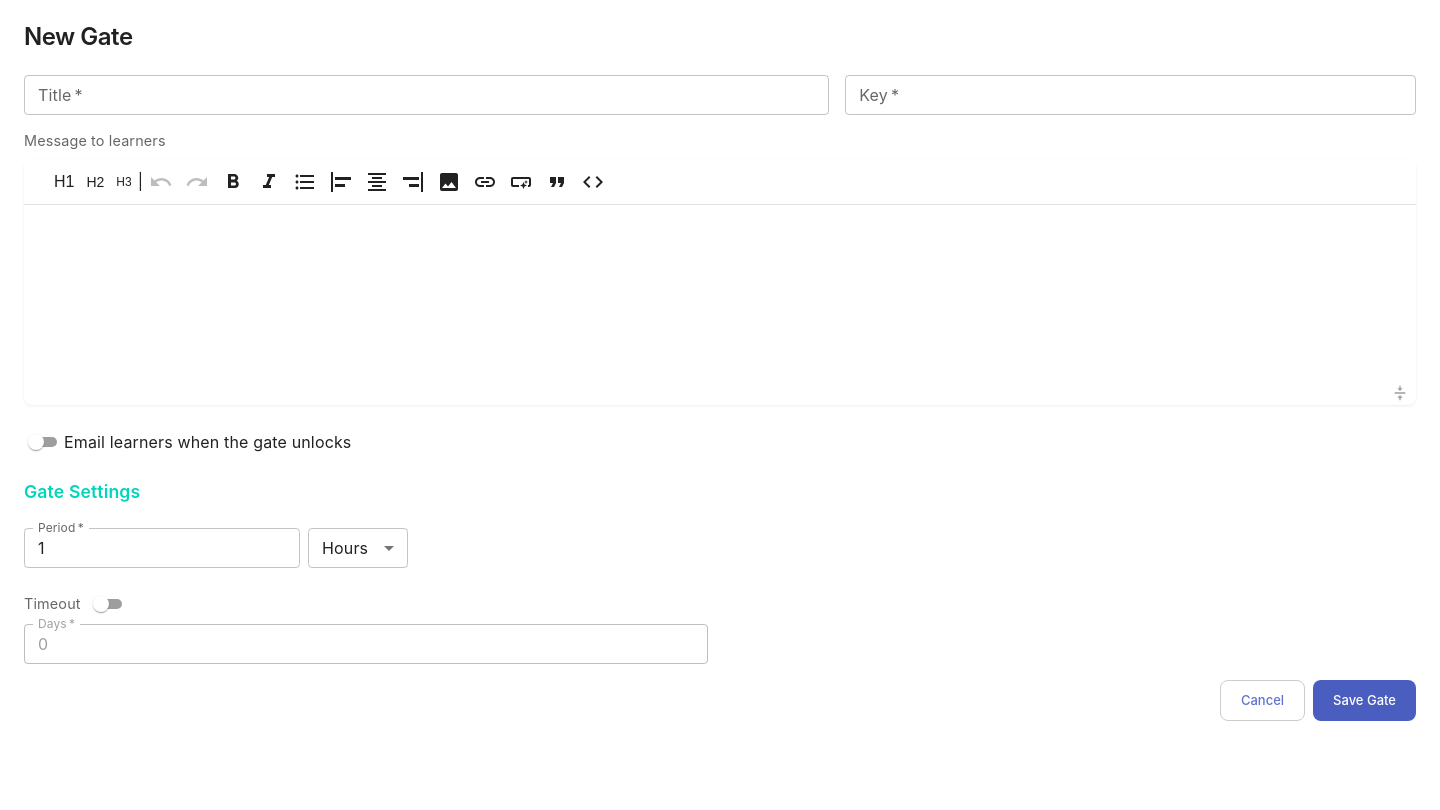
Scenario: GateForm › refuses a key that is not a slug
In the field labelled "Title *": (427, 95) [24, 75, 829, 115], type "Payment"
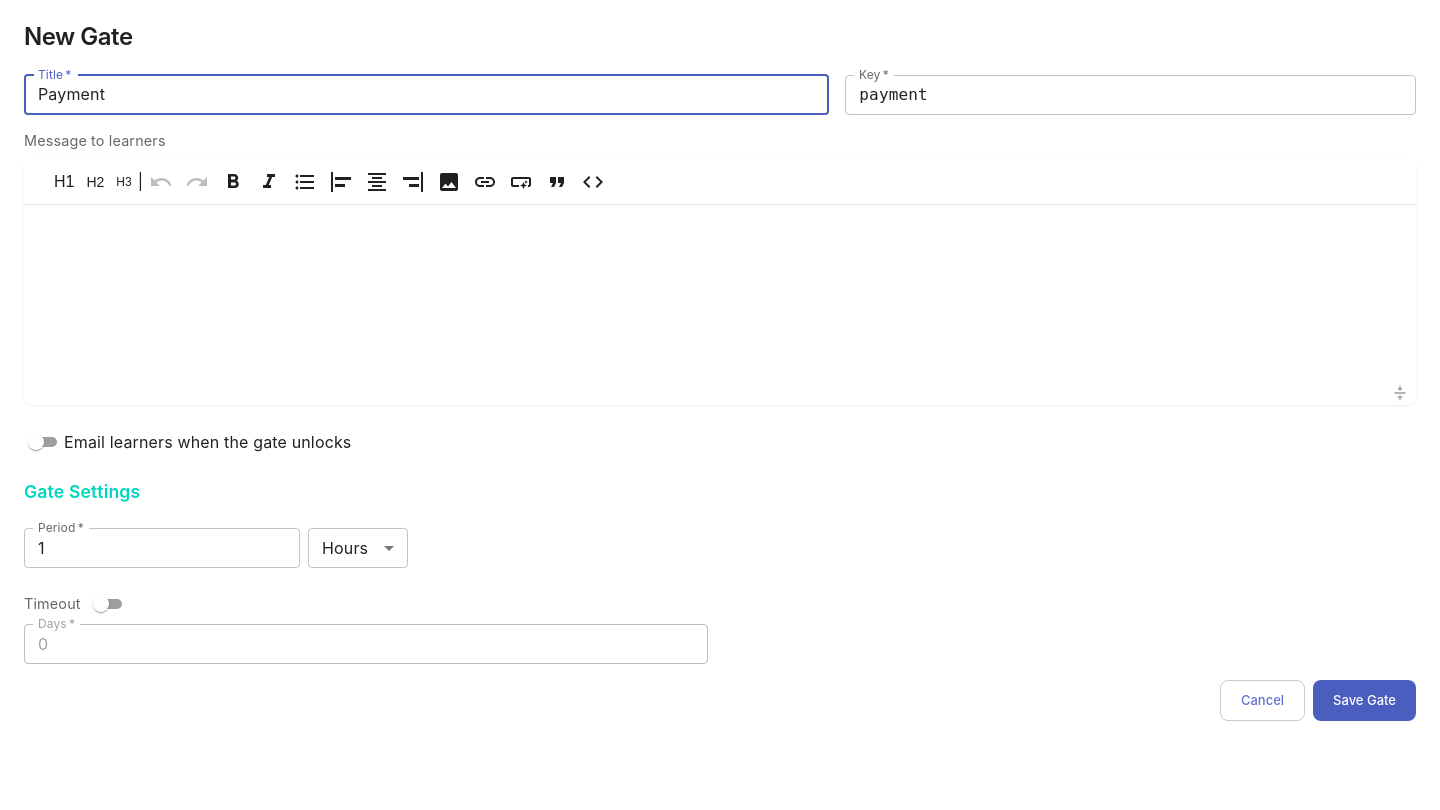
Replace the text in the field labelled "Key *" with "has space": (1131, 95) [845, 75, 1416, 115]
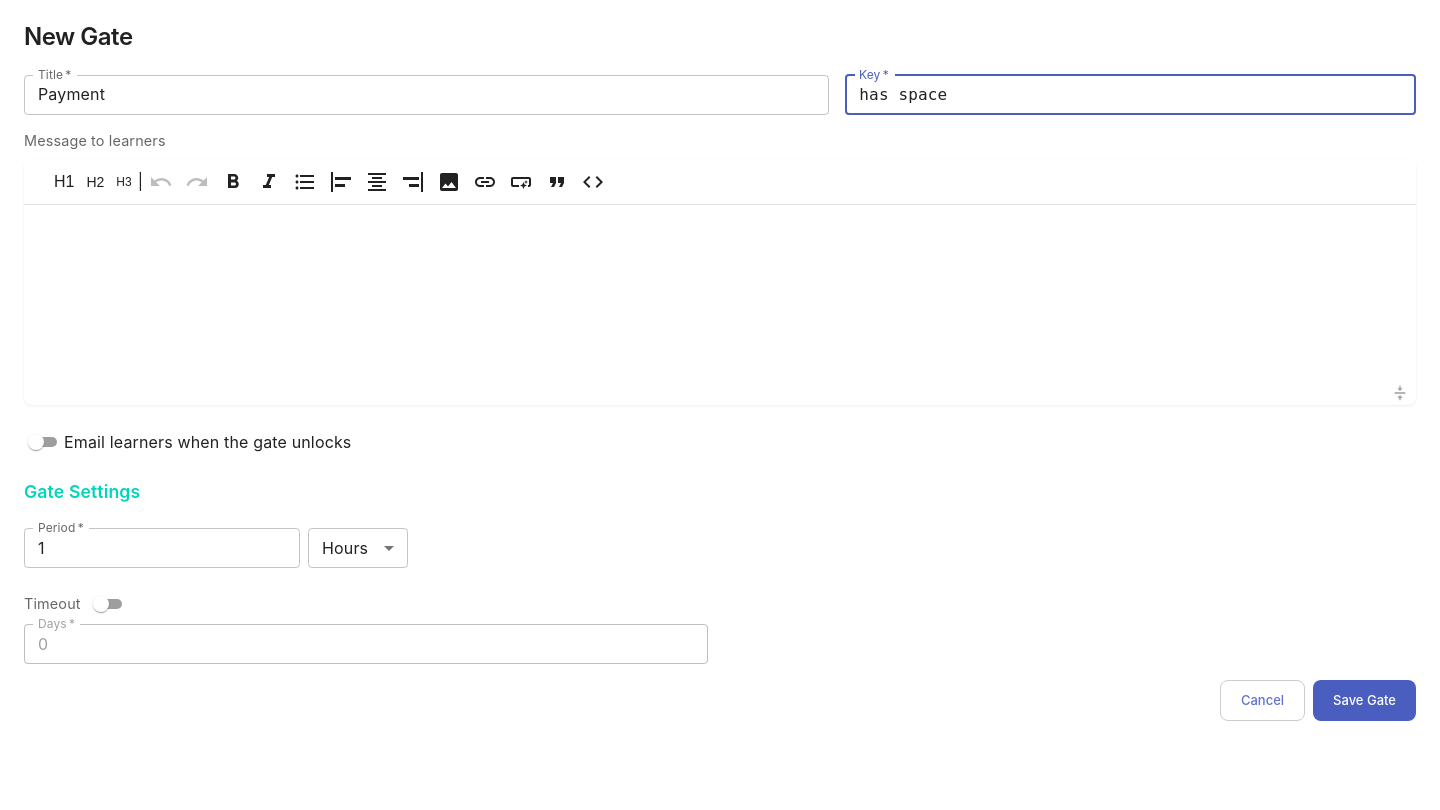
Click the button "Save Gate": (1365, 700) [1313, 680, 1416, 721]
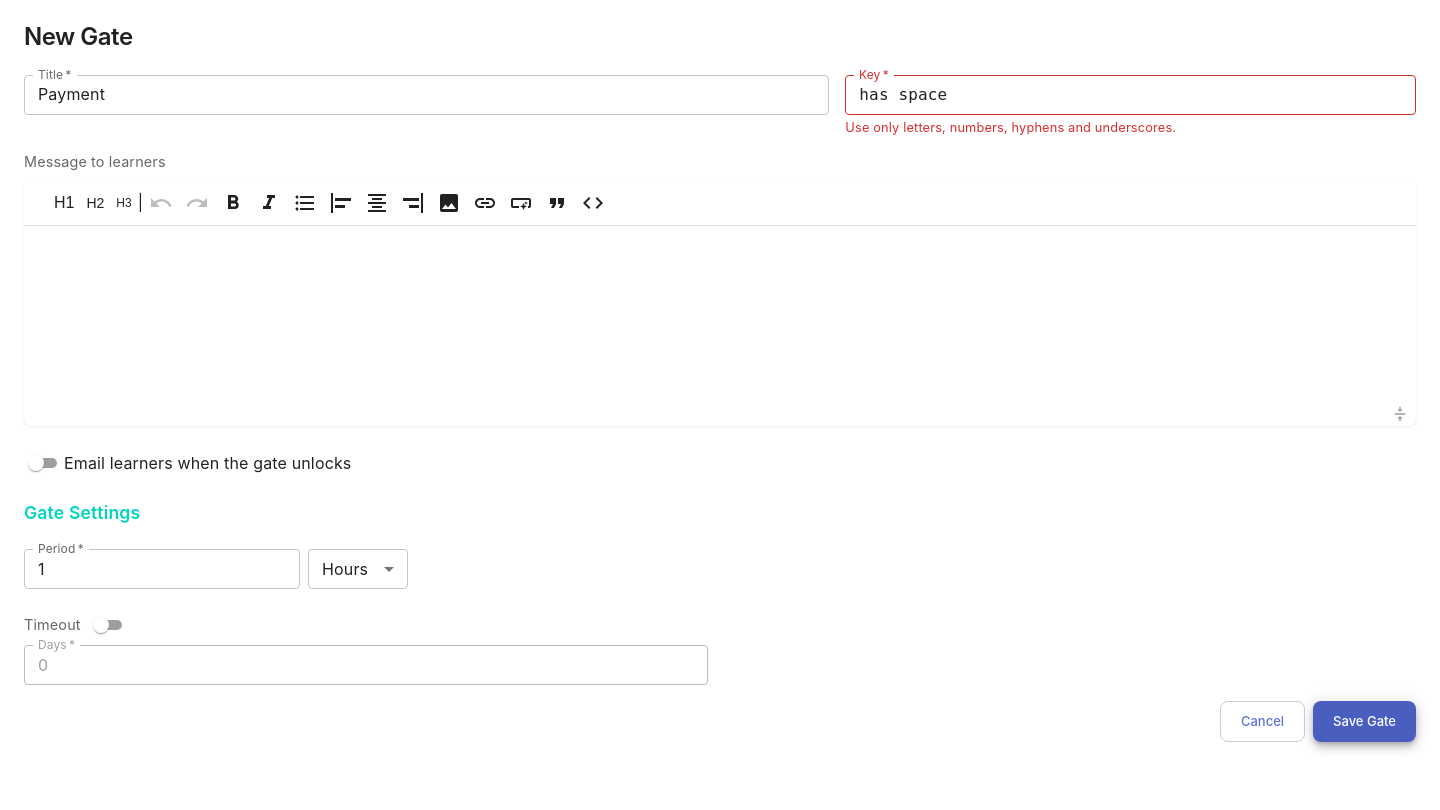
Check: the text "Use only letters, numbers, hyphens and underscores." is shown, box [845, 120, 1176, 135]
